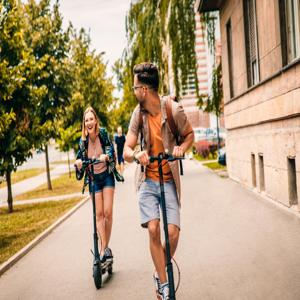human on a scooter: (122, 62, 195, 300), (74, 106, 125, 290)
